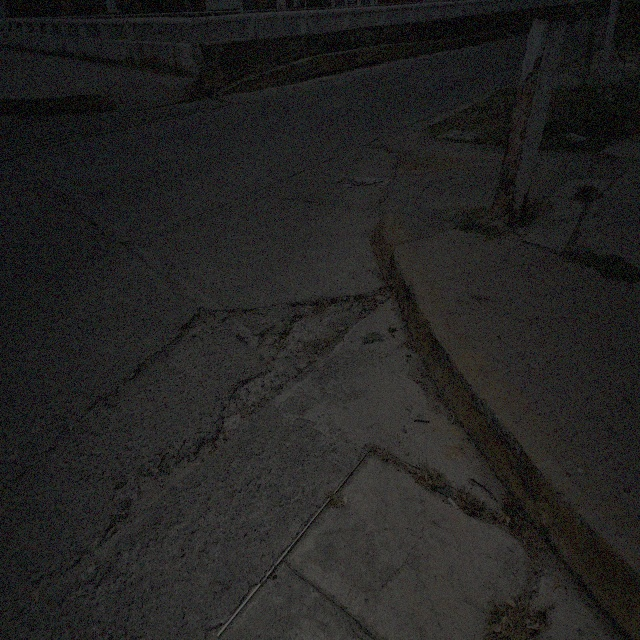pothole: (123, 428, 214, 531), (290, 290, 375, 367), (186, 303, 233, 338), (354, 286, 384, 328)
